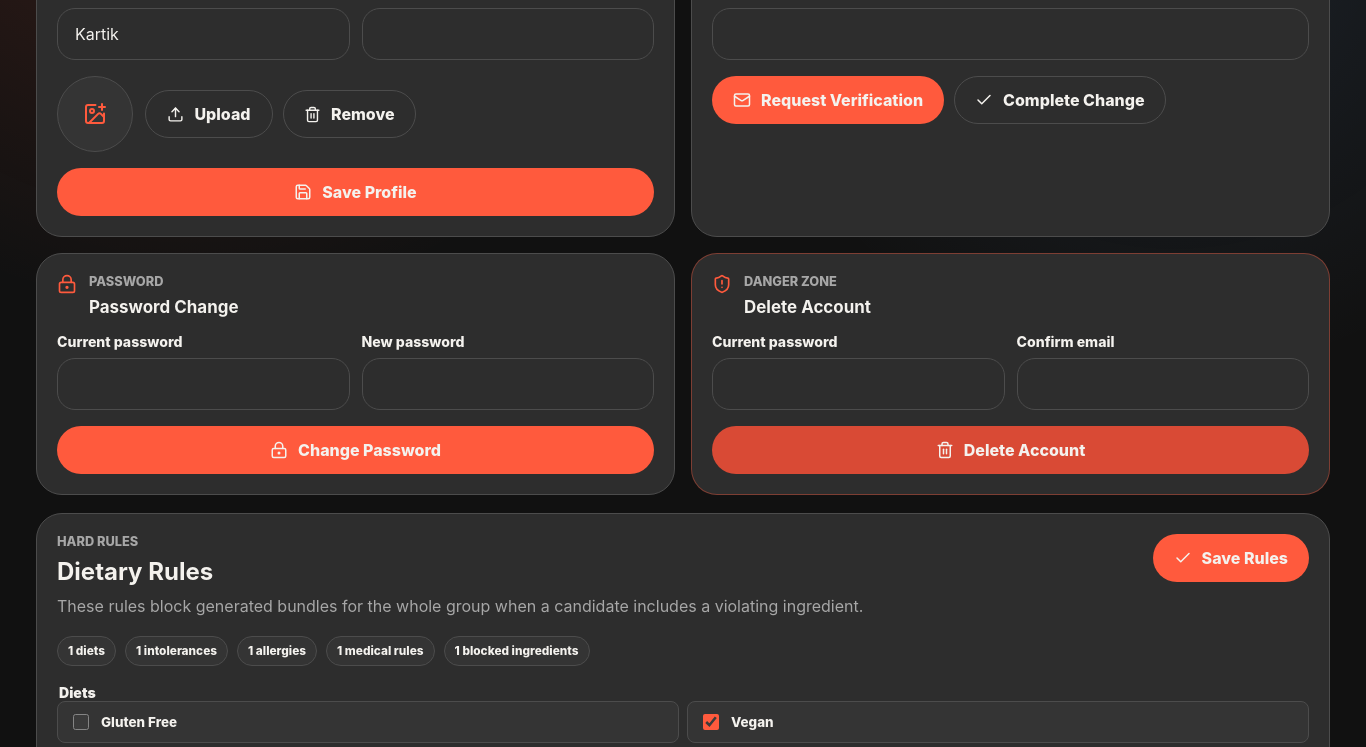
Test case: ProfilePage US5 controls › deletes the account after email confirmation and clears the saved session
The width and height of the screenshot is (1366, 747).
(page scrolled)
Expected: the field labelled "Display name" is shown, [57,8,350,60]
Type "current-secret" into the password field labelled "Current password" below "Confirm email" at (858, 384), box [712,358,1004,410]
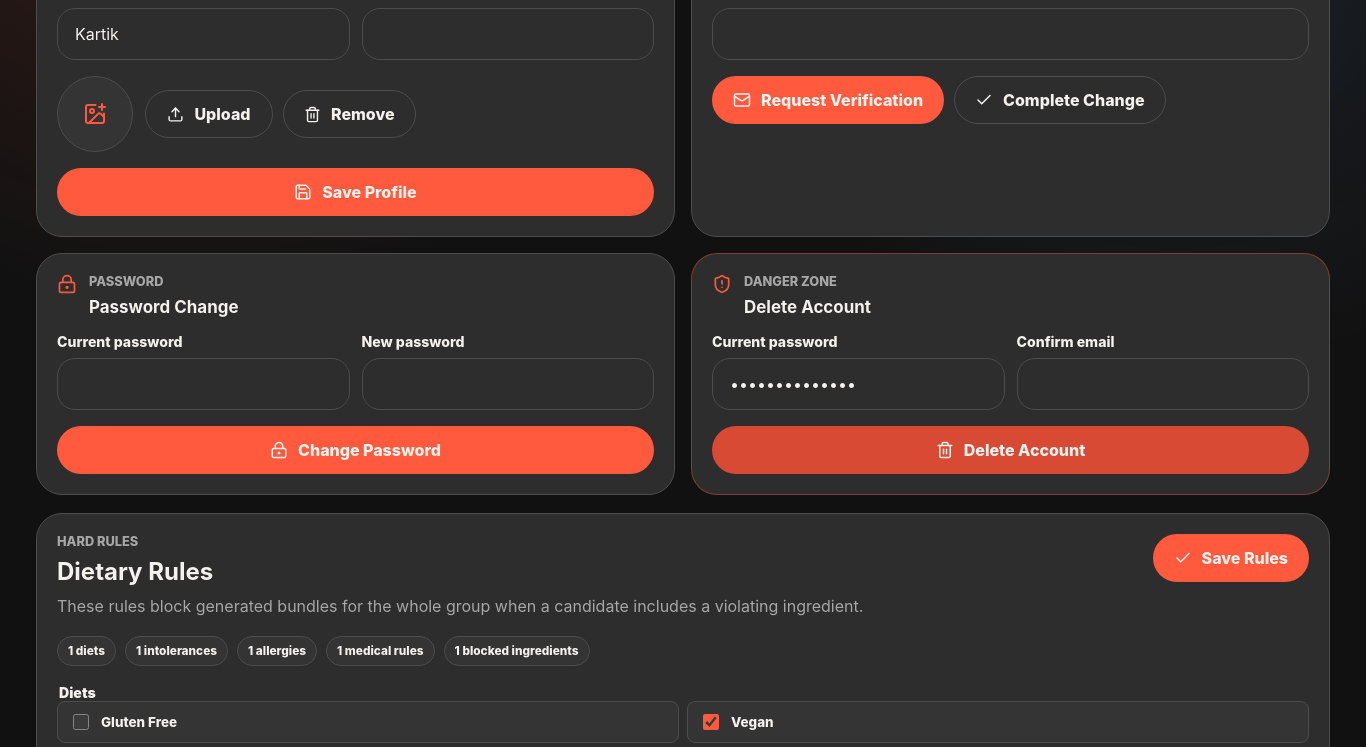
Type "kartik@example.com" into the field labelled "Confirm email" at (1163, 384), box [1016,358,1309,410]
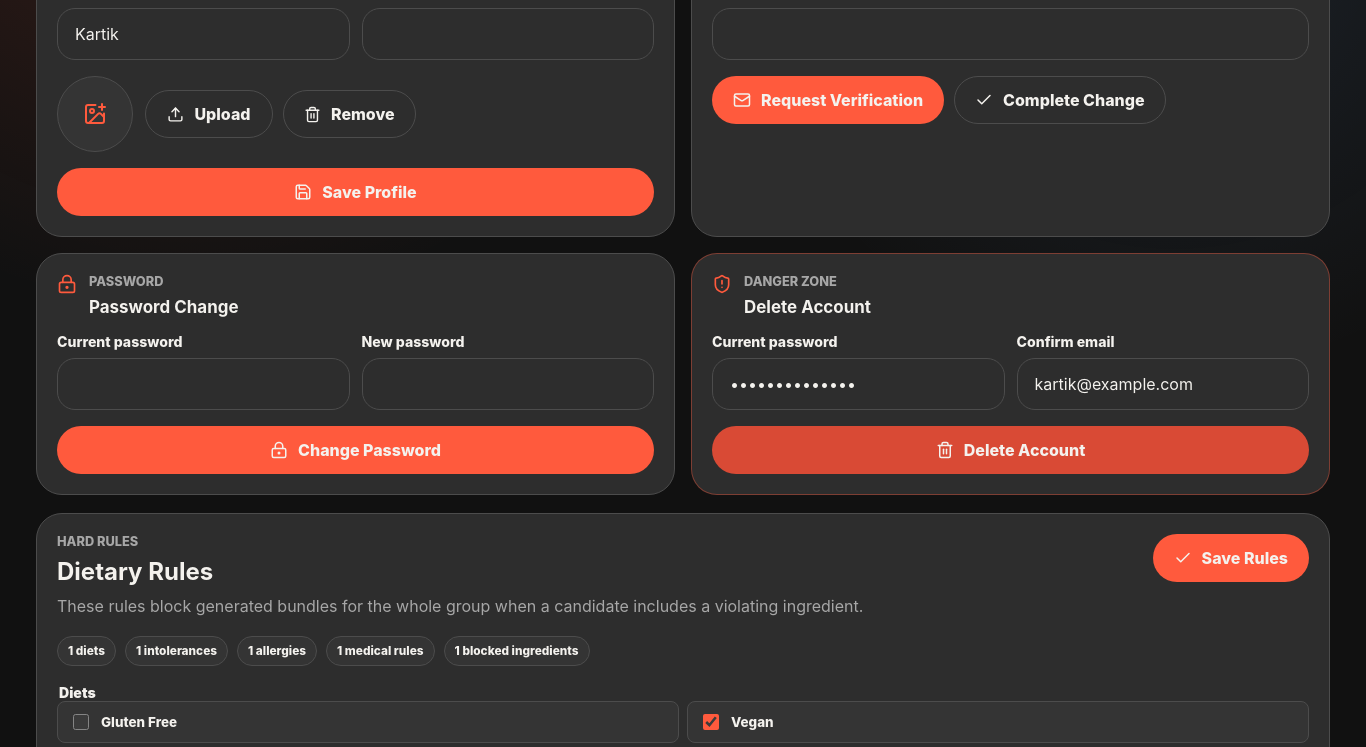
Click the button "Delete Account" at (1010, 450), box [712,426,1309,474]
(page scrolled)
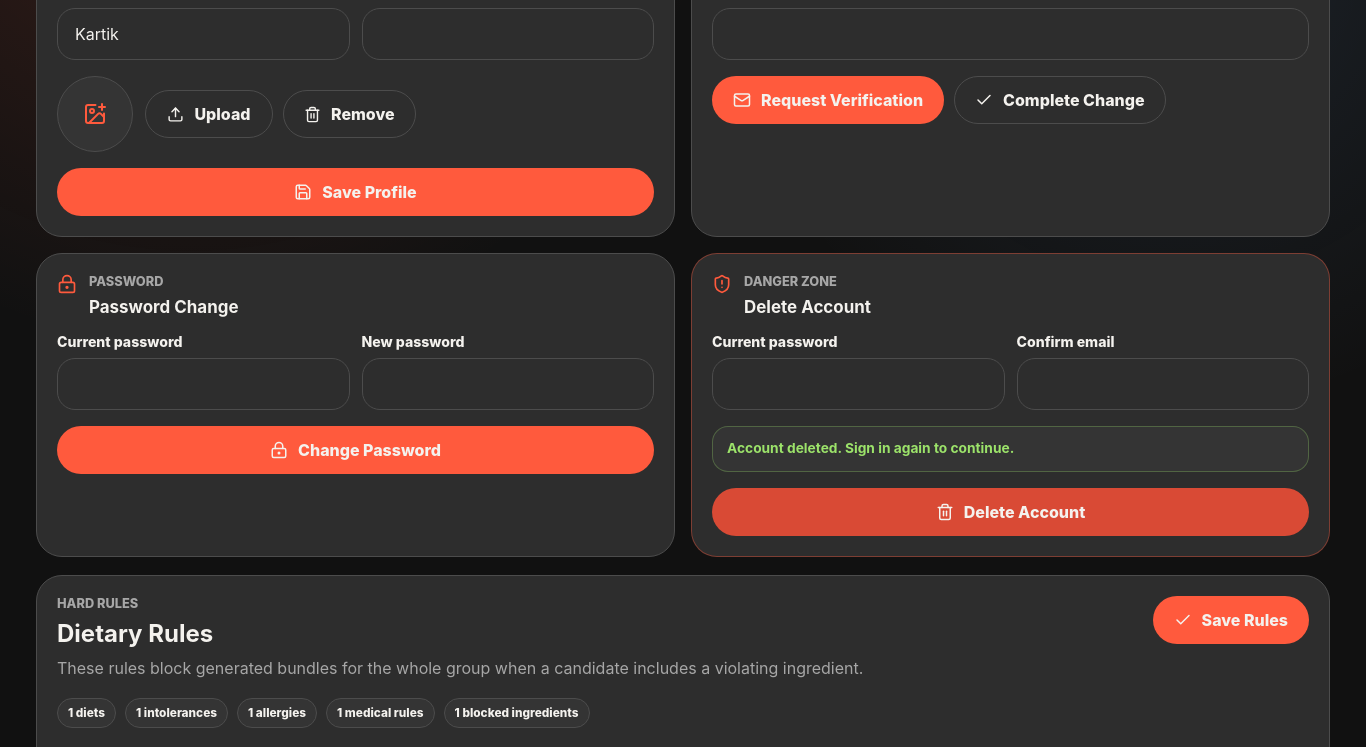
Now the text "Account deleted. Sign in again to continue." is shown, box [712,426,1309,472]
